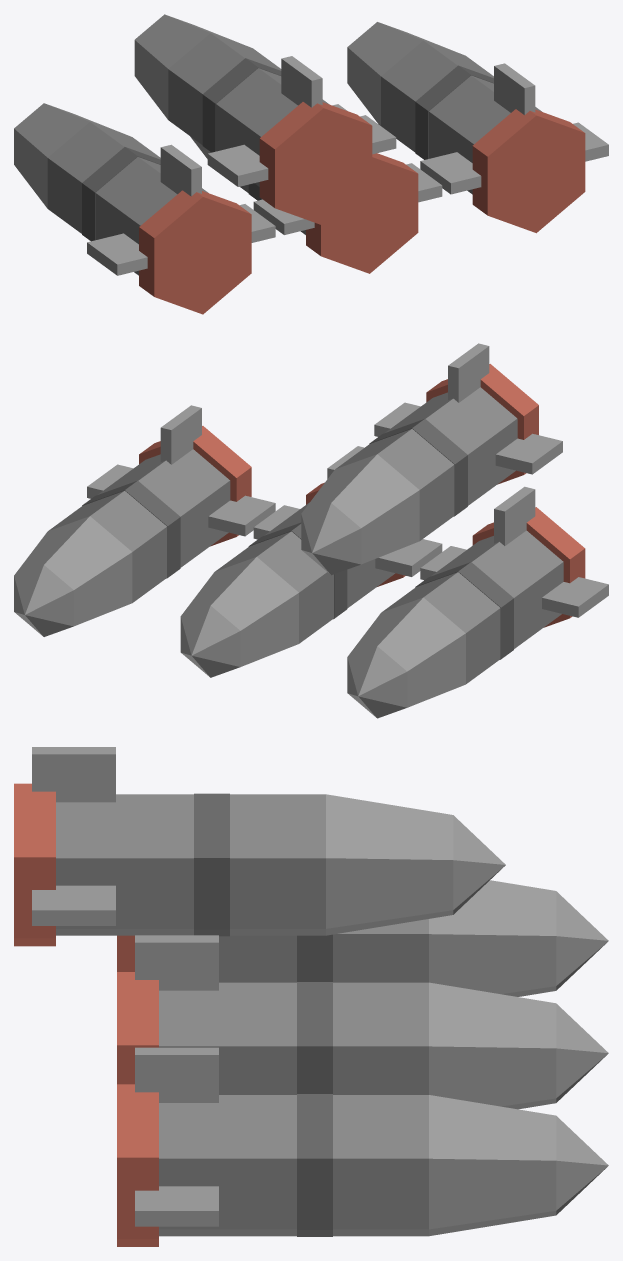
File: ce_ammo2_minirocket_bb_b.obj
The picture shows the model from 3 angles, top to bottom: view 1: azimuth 30°, elevation 25°; view 2: azimuth 150°, elevation 25°; view 3: azimuth 270°, elevation 25°; orthographic projection. The views are drawn at different scales.
Visible parts, largest first — view 1: ce_ammo2_minirocket_bb_b_16, ce_ammo2_minirocket_bb_b_24, ce_ammo2_minirocket_bb_b_0, ce_ammo2_minirocket_bb_b_8, ce_ammo2_minirocket_bb_b_27, ce_ammo2_minirocket_bb_b_3, ce_ammo2_minirocket_bb_b_19, ce_ammo2_minirocket_bb_b_1, ce_ammo2_minirocket_bb_b_25, ce_ammo2_minirocket_bb_b_17, ce_ammo2_minirocket_bb_b_28, ce_ammo2_minirocket_bb_b_4 (+11 smaller); view 2: ce_ammo2_minirocket_bb_b_20, ce_ammo2_minirocket_bb_b_28, ce_ammo2_minirocket_bb_b_4, ce_ammo2_minirocket_bb_b_12, ce_ammo2_minirocket_bb_b_17, ce_ammo2_minirocket_bb_b_25, ce_ammo2_minirocket_bb_b_1, ce_ammo2_minirocket_bb_b_19, ce_ammo2_minirocket_bb_b_27, ce_ammo2_minirocket_bb_b_3, ce_ammo2_minirocket_bb_b_11, ce_ammo2_minirocket_bb_b_13 (+18 smaller); view 3: ce_ammo2_minirocket_bb_b_17, ce_ammo2_minirocket_bb_b_25, ce_ammo2_minirocket_bb_b_28, ce_ammo2_minirocket_bb_b_20, ce_ammo2_minirocket_bb_b_12, ce_ammo2_minirocket_bb_b_19, ce_ammo2_minirocket_bb_b_27, ce_ammo2_minirocket_bb_b_4, ce_ammo2_minirocket_bb_b_9, ce_ammo2_minirocket_bb_b_11, ce_ammo2_minirocket_bb_b_24, ce_ammo2_minirocket_bb_b_16 (+17 smaller).
Part boxes in pixels (x1,y1,x2,y2): ce_ammo2_minirocket_bb_b_16: (472, 109, 585, 233); ce_ammo2_minirocket_bb_b_24: (259, 102, 372, 225); ce_ammo2_minirocket_bb_b_0: (139, 190, 251, 314); ce_ammo2_minirocket_bb_b_8: (306, 153, 418, 273); ce_ammo2_minirocket_bb_b_27: (168, 33, 281, 144); ce_ammo2_minirocket_bb_b_3: (47, 122, 160, 233); ce_ammo2_minirocket_bb_b_19: (381, 40, 493, 152); ce_ammo2_minirocket_bb_b_1: (95, 157, 208, 275); ce_ammo2_minirocket_bb_b_25: (216, 68, 329, 186); ce_ammo2_minirocket_bb_b_17: (429, 75, 541, 194); ce_ammo2_minirocket_bb_b_28: (134, 14, 248, 119); ce_ammo2_minirocket_bb_b_4: (14, 103, 127, 208); ce_ammo2_minirocket_bb_b_20: (14, 516, 132, 626); ce_ammo2_minirocket_bb_b_28: (301, 454, 419, 564); ce_ammo2_minirocket_bb_b_4: (348, 597, 465, 707); ce_ammo2_minirocket_bb_b_12: (181, 557, 298, 666); ce_ammo2_minirocket_bb_b_17: (98, 449, 230, 567); ce_ammo2_minirocket_bb_b_25: (385, 387, 517, 505); ce_ammo2_minirocket_bb_b_1: (431, 530, 563, 648); ce_ammo2_minirocket_bb_b_19: (48, 490, 167, 602); ce_ammo2_minirocket_bb_b_27: (336, 429, 454, 540); ce_ammo2_minirocket_bb_b_3: (382, 572, 500, 683); ce_ammo2_minirocket_bb_b_11: (215, 531, 333, 643); ce_ammo2_minirocket_bb_b_13: (180, 605, 240, 677); ce_ammo2_minirocket_bb_b_17: (159, 1095, 296, 1236); ce_ammo2_minirocket_bb_b_25: (56, 794, 193, 935); ce_ammo2_minirocket_bb_b_28: (326, 794, 453, 935); ce_ammo2_minirocket_bb_b_20: (429, 1095, 556, 1236); ce_ammo2_minirocket_bb_b_12: (429, 982, 556, 1109); ce_ammo2_minirocket_bb_b_19: (333, 1095, 428, 1236); ce_ammo2_minirocket_bb_b_27: (230, 794, 325, 935); ce_ammo2_minirocket_bb_b_4: (429, 880, 556, 996); ce_ammo2_minirocket_bb_b_9: (159, 982, 296, 1094); ce_ammo2_minirocket_bb_b_11: (333, 982, 428, 1094); ce_ammo2_minirocket_bb_b_24: (14, 783, 55, 946); ce_ammo2_minirocket_bb_b_16: (117, 1084, 158, 1246).
Bounding box in the file's own units: 0.914 × 0.4216 × 0.694.
